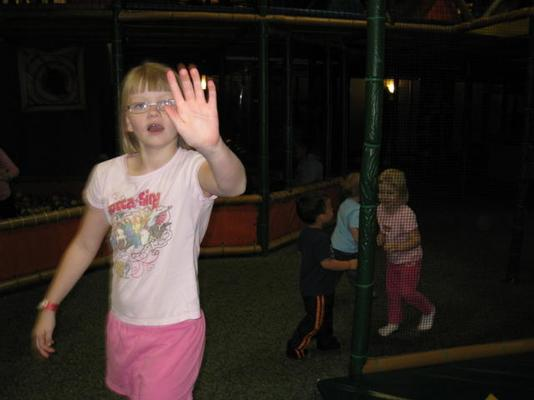person: (36, 63, 247, 400)
